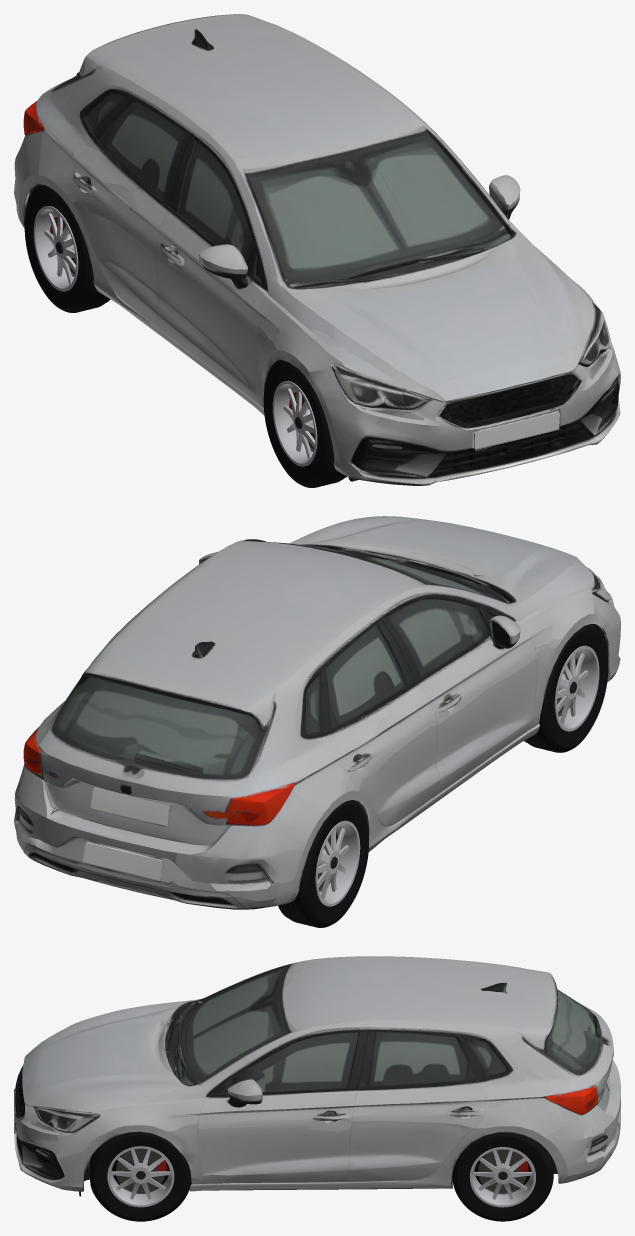
The model's file is kompakt.glb.
3 views of the same model, one above another, from view 1: azimuth 30°, elevation 25°; view 2: azimuth 150°, elevation 25°; view 3: azimuth 270°, elevation 25° (orthographic). The views are drawn at different scales.
Visible parts, largest first — view 1: karosserie, rad_vr, rad_hr; view 2: karosserie, rad_hr, rad_vr; view 3: karosserie, rad_vl, rad_hl.
Boxes of the visible parts, x1,y1,x2,y2 form: karosserie: (14,14,620,485); rad_vr: (263,360,346,487); rad_hr: (24,184,110,312); karosserie: (14,516,620,909); rad_hr: (278,800,368,927); rad_vr: (524,624,608,752); karosserie: (14,956,620,1199); rad_vl: (89,1131,191,1221); rad_hl: (452,1132,553,1221).
Bounding box in the file's own units: 1.96 × 1.46 × 4.28.
Materials: 3 (1 with a texture image).
